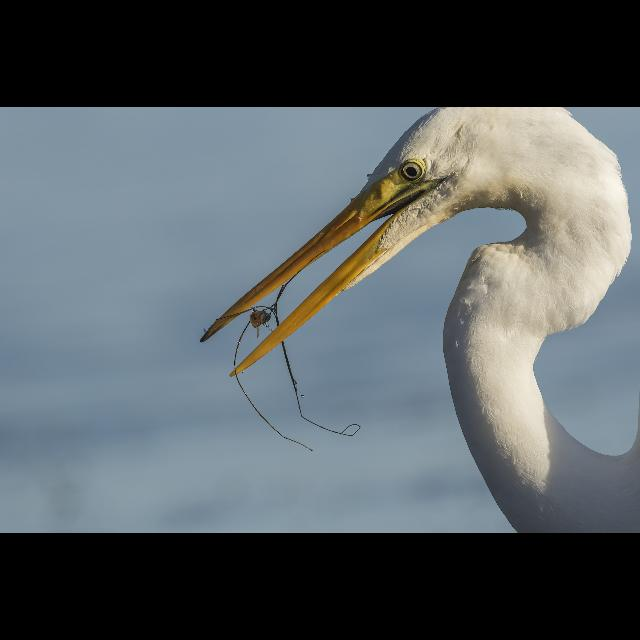egret: (195, 111, 640, 534)
